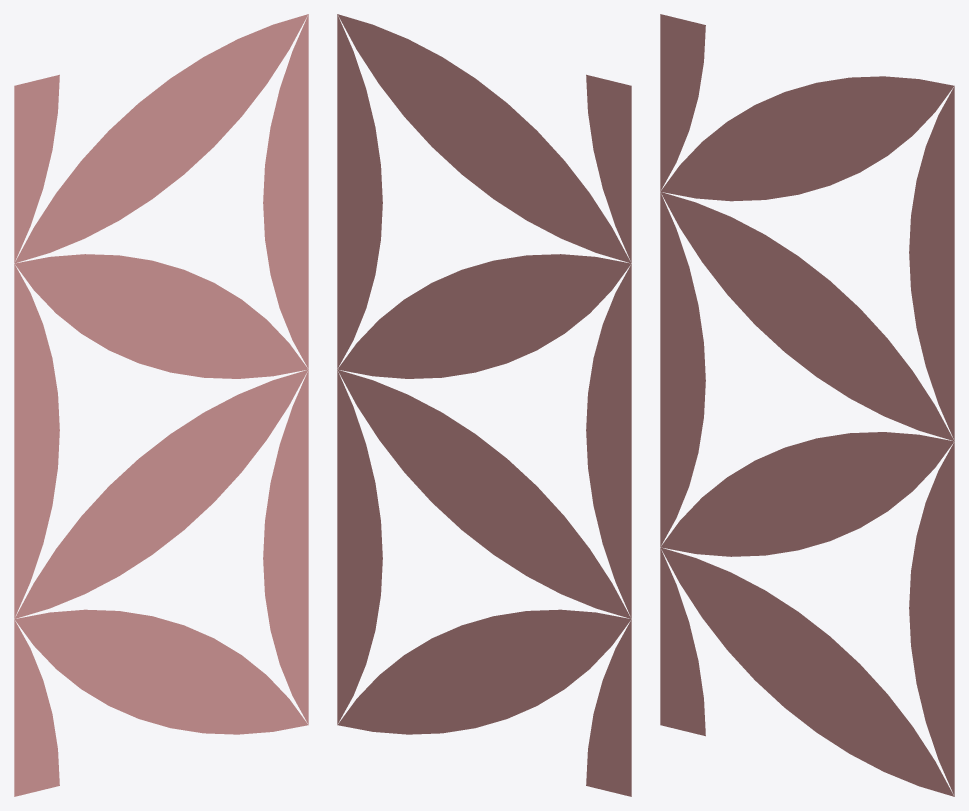
The model's file is flower1d.obj.
3 renders of one model, left to right at view 1: azimuth 30°, elevation 25°; view 2: azimuth 150°, elevation 25°; view 3: azimuth 330°, elevation 25°, orthographic.
Size of the model in its own units: 0.5 by 1.15 by 0.
